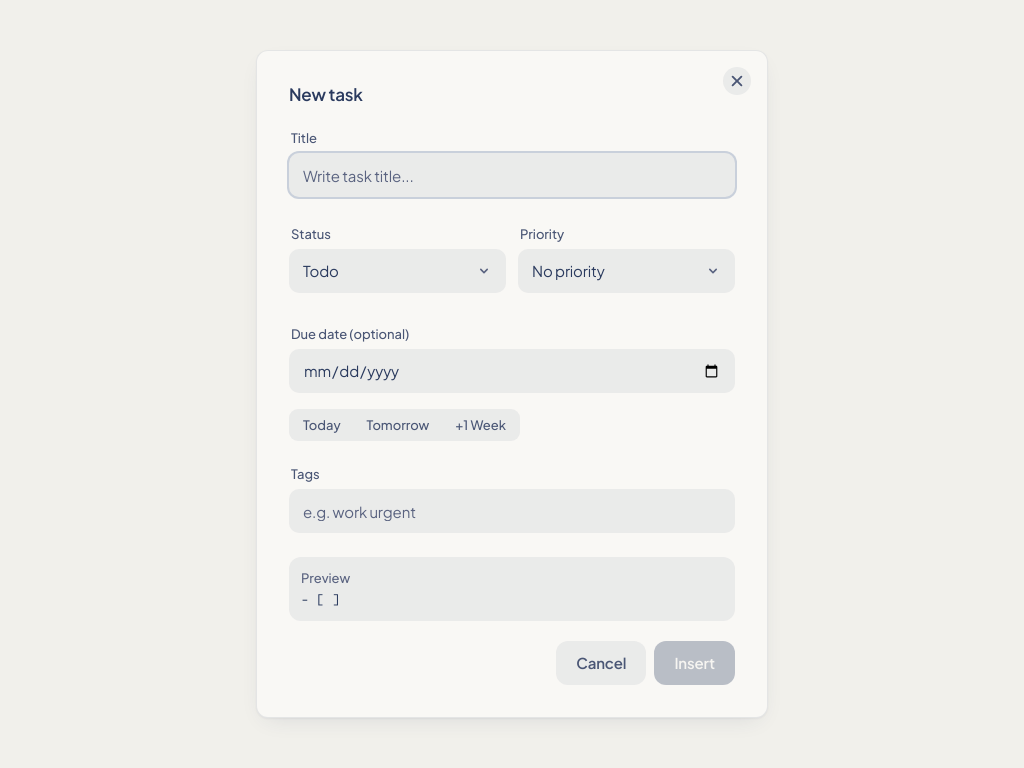
Test case: TaskDialog due-date presets › clears the due date, leaving no preset selected
Type "Ship the release" into the field labelled "Title" at (512, 175), box left=289, top=153, right=735, bottom=197
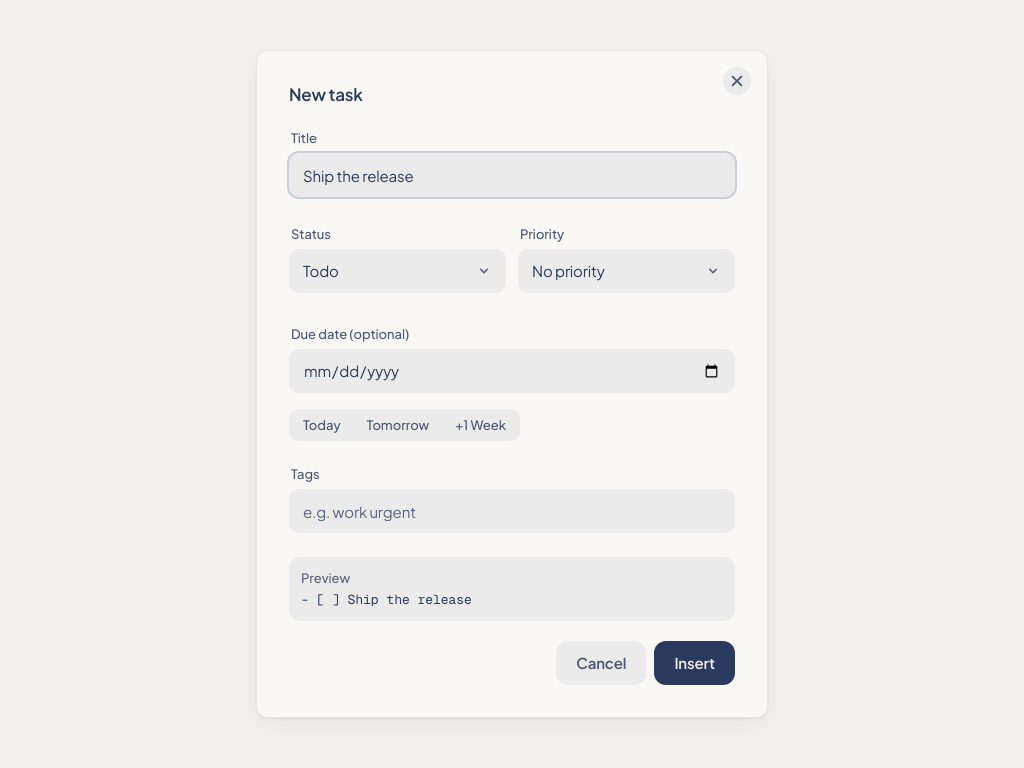
Click the button "Today" at (322, 425), box left=291, top=411, right=352, bottom=439
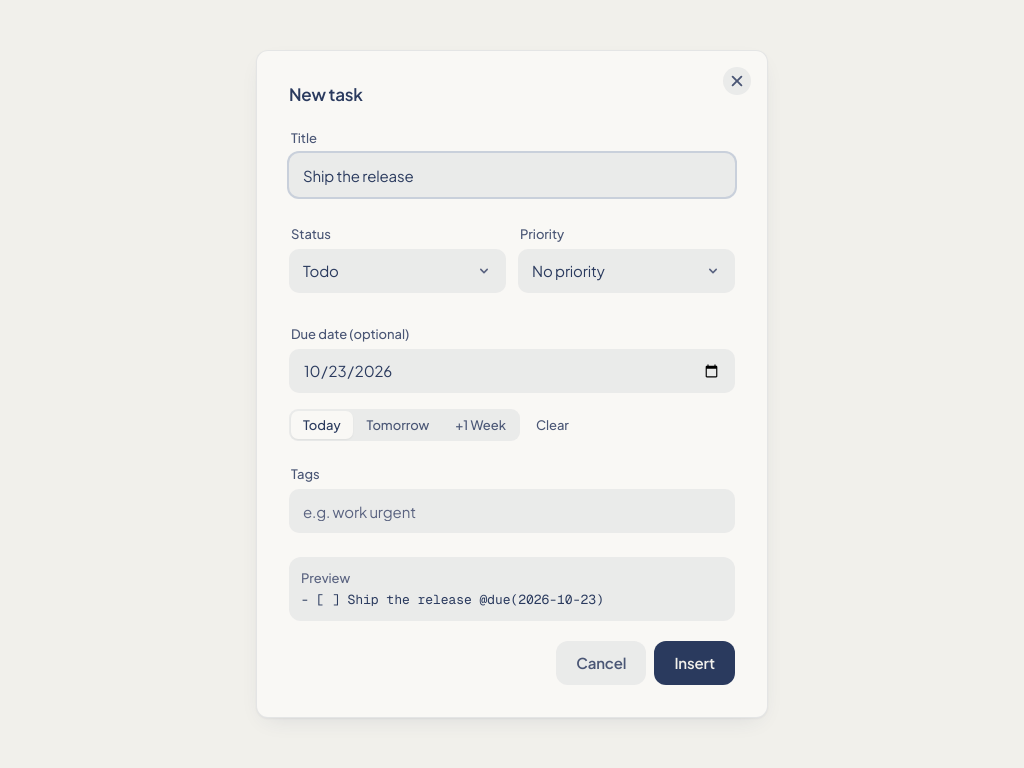
Click the button "Clear" at (552, 425), box left=526, top=409, right=579, bottom=441
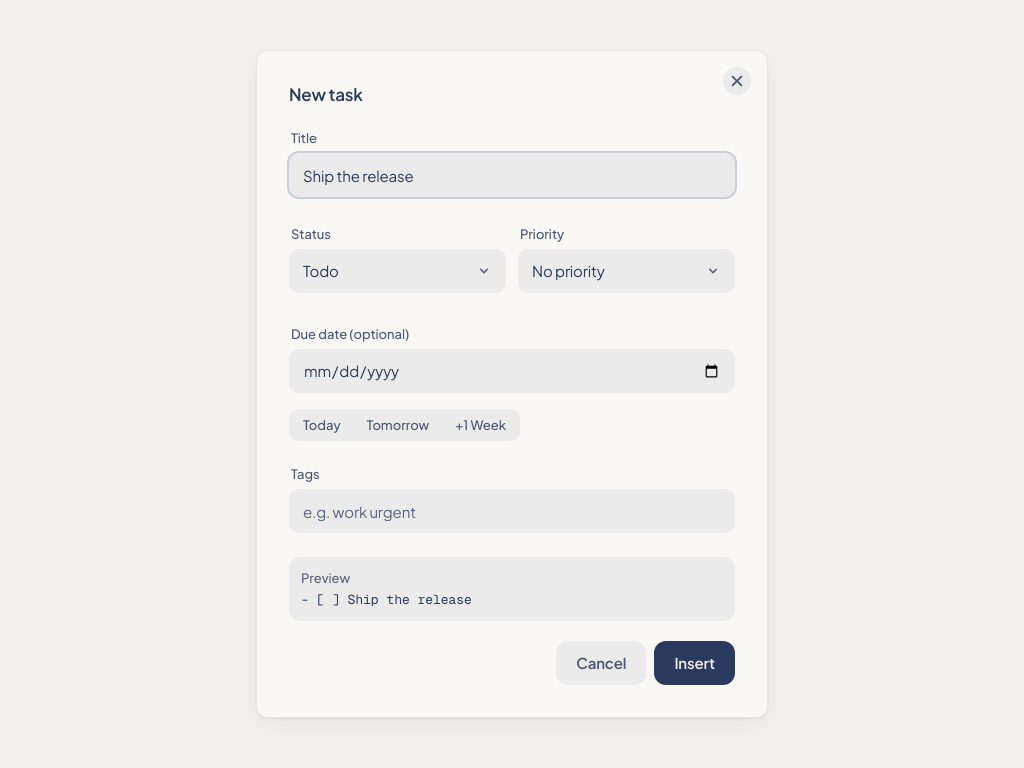
Expected: the button "Clear" is gone
